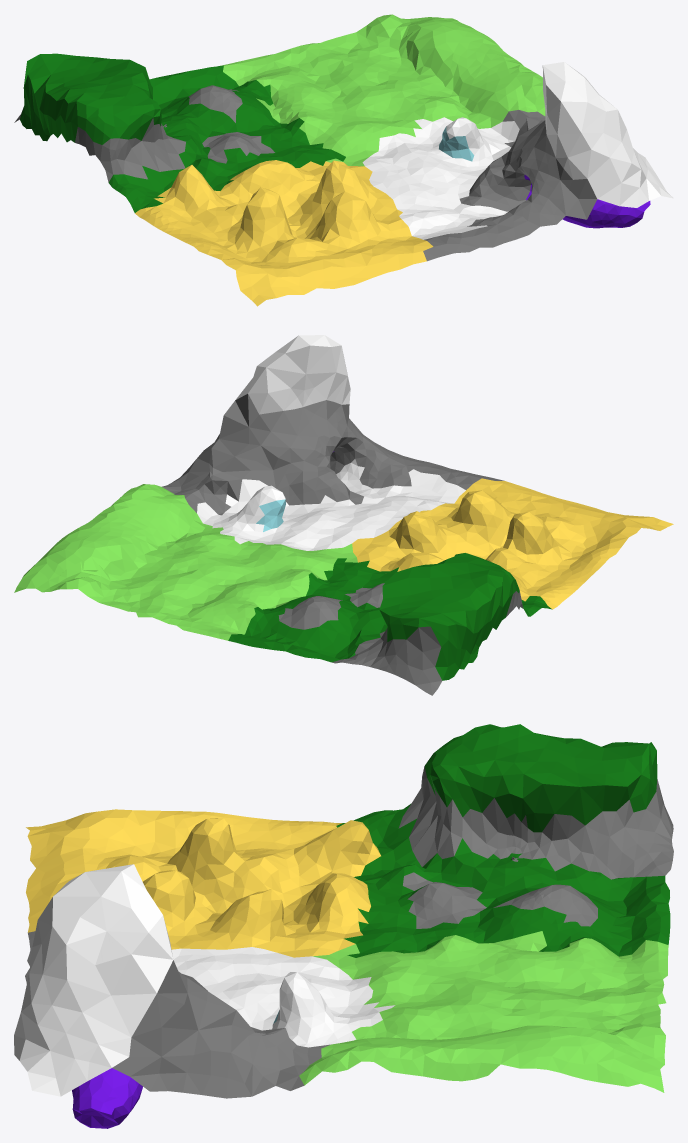
Rendered from NewTerrain.fbx.
The picture shows the model from 3 angles, top to bottom: view 1: azimuth 30°, elevation 25°; view 2: azimuth 150°, elevation 25°; view 3: azimuth 270°, elevation 25°; orthographic projection. The views are drawn at different scales.
Parts seen in each view (by area): view 1: Plane; view 2: Plane; view 3: Plane.
Boxes of the visible parts, bbox=[...] form: Plane: bbox=[14, 14, 673, 306]; Plane: bbox=[14, 335, 673, 695]; Plane: bbox=[14, 724, 673, 1128].
Size of the model in its own units: 22245 by 8252 by 22071.
